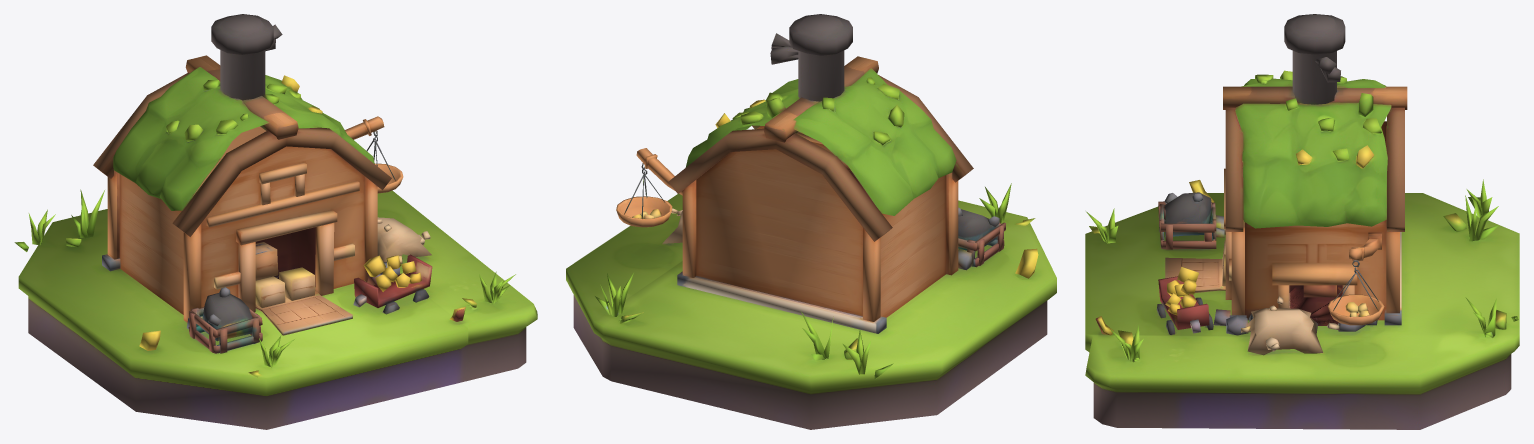
The model's file is deposito_2.glb.
3 renders of one model, left to right at view 1: azimuth 30°, elevation 25°; view 2: azimuth 150°, elevation 25°; view 3: azimuth 270°, elevation 25°, orthographic. The views are drawn at different scales.
Parts seen in each view (by area): view 1: tripo_node_70f26579-e5d4-4e43-9eb6-27a7b7fd64d9; view 2: tripo_node_70f26579-e5d4-4e43-9eb6-27a7b7fd64d9; view 3: tripo_node_70f26579-e5d4-4e43-9eb6-27a7b7fd64d9.
Part boxes in pixels (box(x1,y1,x2,y2)): tripo_node_70f26579-e5d4-4e43-9eb6-27a7b7fd64d9: box(14, 14, 537, 429); tripo_node_70f26579-e5d4-4e43-9eb6-27a7b7fd64d9: box(566, 14, 1056, 429); tripo_node_70f26579-e5d4-4e43-9eb6-27a7b7fd64d9: box(1085, 14, 1519, 429).
Size of the model in its own units: 0.998 by 0.791 by 0.998.
Materials: 1 (1 with a texture image).
